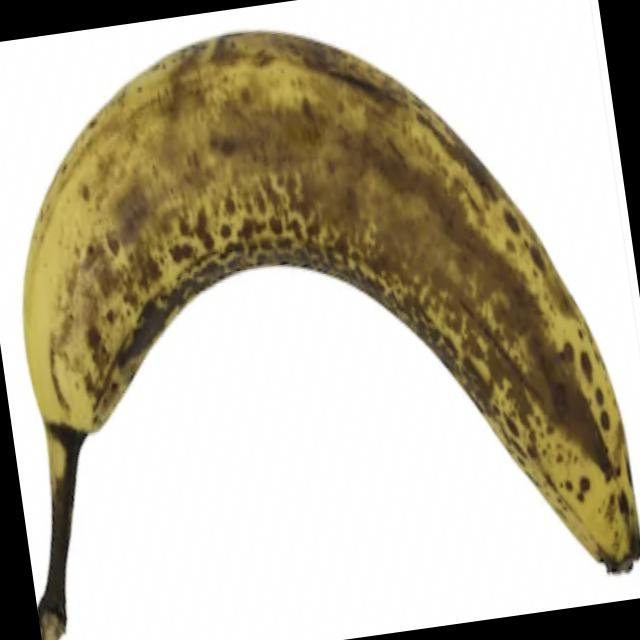rotten-banana: (4, 0, 637, 635)
